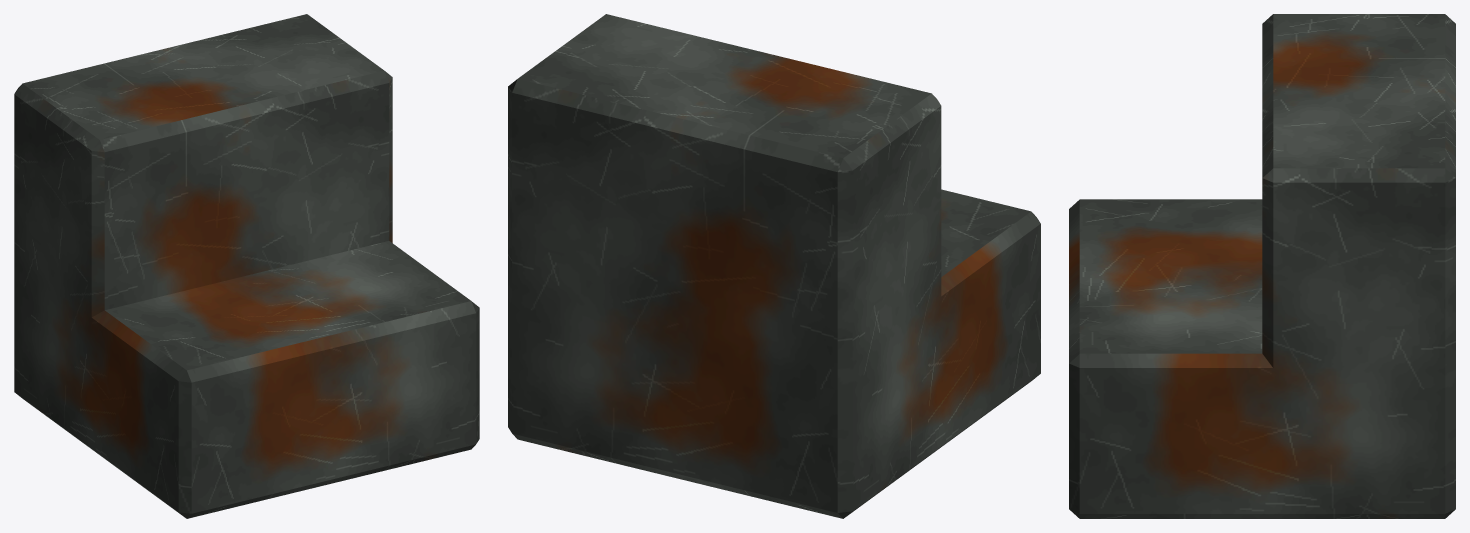
File: R4B_Step_LOD1.glb
3 renders of one model, left to right at view 1: azimuth 30°, elevation 25°; view 2: azimuth 150°, elevation 25°; view 3: azimuth 270°, elevation 25°, orthographic. The views are drawn at different scales.
Visible parts, largest first — view 1: R4B_Step_LOD1; view 2: R4B_Step_LOD1; view 3: R4B_Step_LOD1.
Part boxes in pixels (<box>): R4B_Step_LOD1: <box>14,14,479,518</box>; R4B_Step_LOD1: <box>508,14,1040,518</box>; R4B_Step_LOD1: <box>1069,14,1455,518</box>.
Bounding box in the file's own units: 0.52 × 0.52 × 0.52.
Materials: 1 (1 with a texture image).
